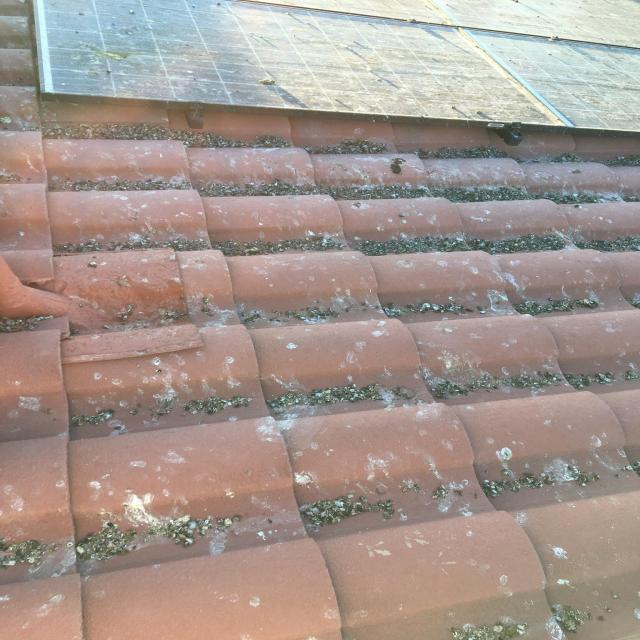dust-solar-panel: (40, 0, 640, 128)
